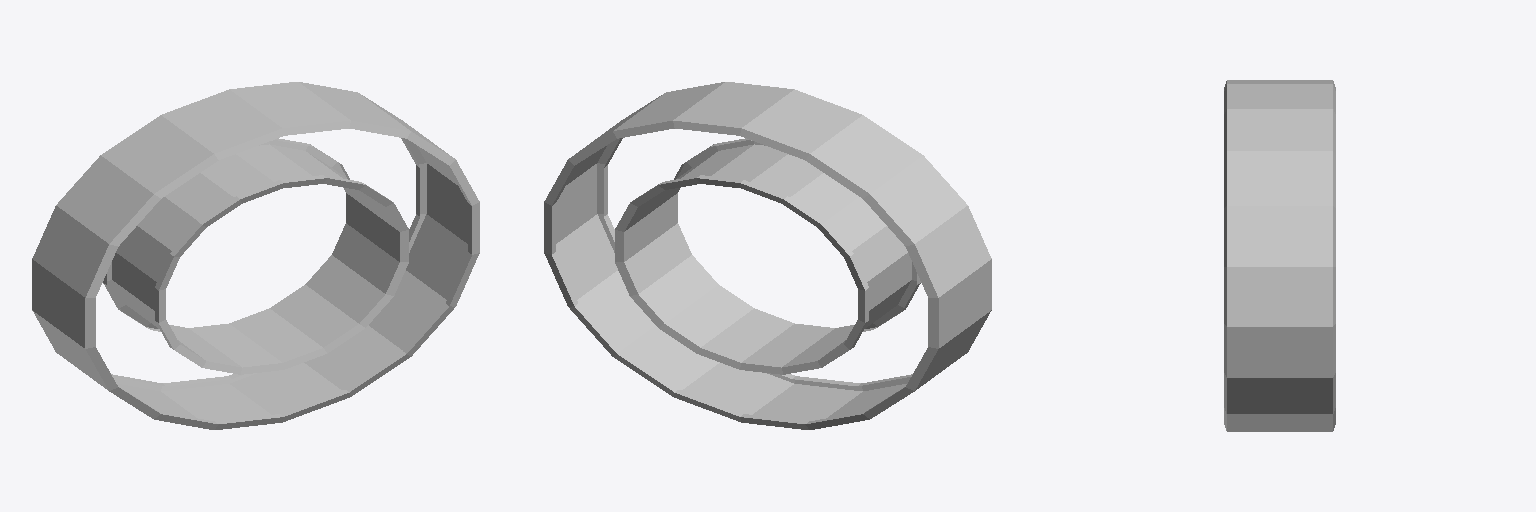
The model's file is M-Start-1.obj.
3 renders of one model, left to right at view 1: azimuth 30°, elevation 25°; view 2: azimuth 150°, elevation 25°; view 3: azimuth 270°, elevation 25°, orthographic.
Visible parts, largest first — view 1: M_Start_1; view 2: M_Start_1; view 3: M_Start_1.
Part boxes in pixels (x1,y1,x2,y2): M_Start_1: (32,82,479,429); M_Start_1: (544,82,991,429); M_Start_1: (1224,80,1335,431).
Size of the model in its own units: 628 by 448 by 154.